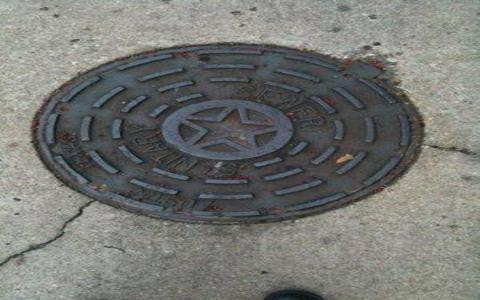proper manhole: (34, 39, 426, 224)
